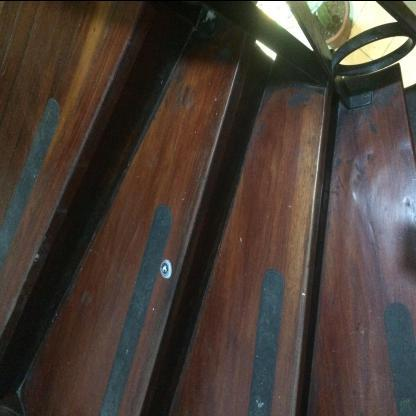metal: (161, 259, 173, 279)
